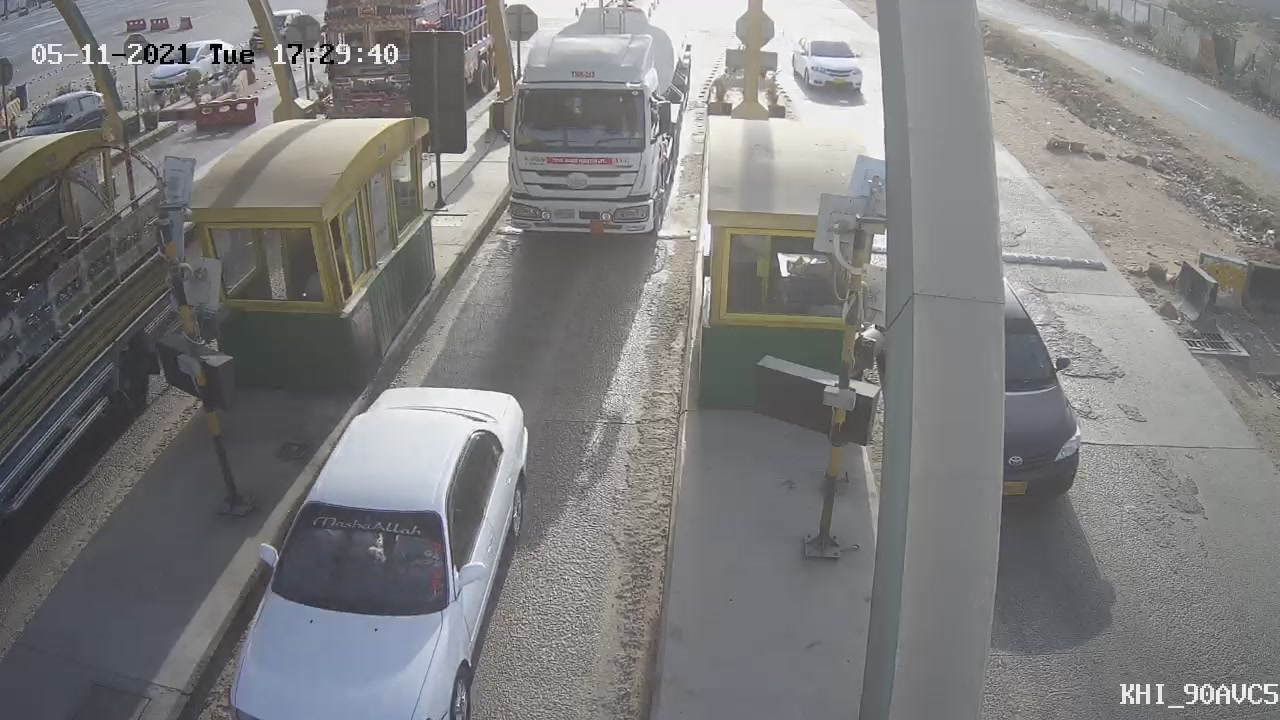F6: (476, 1, 698, 272)
